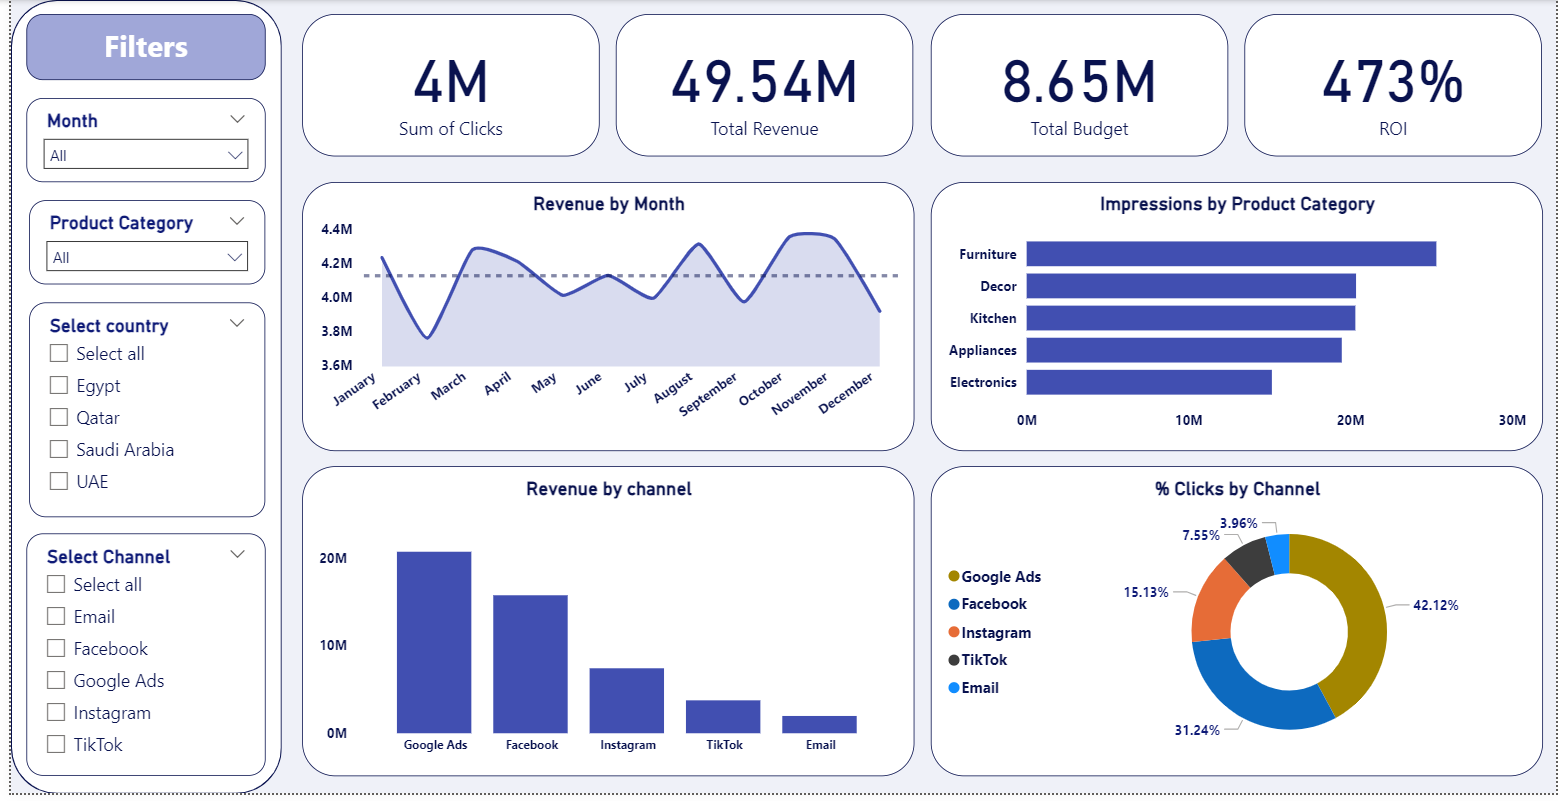

The dashboard page shown, as its layout file describes it:
{"tool":"powerbi","page":{"name":"Marketing Dashboard","canvas":[1403,720],"ordinal":0},"visuals":[{"type":"slicer","fields":{"Values":["Campaigns_Performance.product_category"]},"box":[17,181.2,214.6,76.7],"z":0,"group":"g1"},{"type":"shape","box":[0,0,245.9,720.6],"z":500},{"type":"card","fields":{"Values":["Campaigns_Performance.Total Revenue"]},"box":[549.5,12.8,270,129.3],"z":1000},{"type":"slicer","fields":{"Values":["Campaigns_Performance.date.Variation.Date Hierarchy.Month"]},"box":[14.2,88.5,217.5,76.7],"z":1000,"group":"g1"},{"type":"card","fields":{"Values":["Campaigns_Performance.Total Budget"]},"box":[834.7,12.8,270,129.3],"z":2000},{"type":"card","fields":{"Values":["Campaigns_Performance.ROI %"]},"box":[1120,12.8,270,129.3],"z":3000},{"type":"slicer","fields":{"Values":["Campaigns_Performance.channel"]},"box":[14.2,484.7,217.5,220.3],"z":3000,"group":"g1"},{"type":"columnChart","title":"Revenue by channel","fields":{"Category":["Campaigns_Performance.channel"],"Y":["Campaigns_Performance.Total Revenue"]},"box":[264.4,423.5,555.7,281.4],"z":4000},{"type":"lineChart","title":"Revenue by Month","fields":{"Category":["Campaigns_Performance.date.Variation.Date Hierarchy.Month"],"Y":["Campaigns_Performance.Total Revenue"]},"box":[264.4,164.9,555.7,244.5],"z":5000},{"type":"donutChart","title":"% Clicks by Channel","fields":{"Y":["Sum(Campaigns_Performance.clicks)"],"Category":["Campaigns_Performance.channel"]},"box":[834.3,423.5,555.7,281.4],"z":6000},{"type":"clusteredBarChart","title":"Impressions by Product Category","fields":{"Category":["Campaigns_Performance.product_category"],"Y":["Sum(Campaigns_Performance.impressions)"]},"box":[834.3,164.9,555.7,244.5],"z":8000},{"type":"slicer","fields":{"Values":["Campaigns_Performance.country"]},"box":[17,274,214.6,194.7],"z":8000,"group":"g1"},{"type":"textbox","box":[14.2,12.8,217.5,59.7],"z":9000,"group":"g1"},{"type":"card","fields":{"Values":["Sum(Campaigns_Performance.clicks)"]},"box":[264.4,12.8,270,129.3],"z":9000},{"type":"group","id":"g1","title":"Group 1","box":[14.2,12.8,217.5,692.2],"z":10000}]}

Visuals, with their boxes in screenshot pixels (x1, y1, x2, y2), scaled from the page's 1403x720 canvas onto the 1558x801 screenshot:
slicer - Campaigns_Performance.product_category: detection(19, 202, 257, 287)
shape: detection(0, 0, 273, 800)
card - Campaigns_Performance.Total Revenue: detection(610, 14, 910, 158)
slicer - Campaigns_Performance.date.Variation.Date Hierarchy.Month: detection(16, 98, 257, 184)
card - Campaigns_Performance.Total Budget: detection(927, 14, 1227, 158)
card - Campaigns_Performance.ROI %: detection(1244, 14, 1544, 158)
slicer - Campaigns_Performance.channel: detection(16, 539, 257, 784)
"Revenue by channel" columnChart: detection(294, 471, 911, 784)
"Revenue by Month" lineChart: detection(294, 183, 911, 455)
"% Clicks by Channel" donutChart: detection(926, 471, 1544, 784)
"Impressions by Product Category" clusteredBarChart: detection(926, 183, 1544, 455)
slicer - Campaigns_Performance.country: detection(19, 305, 257, 521)
textbox: detection(16, 14, 257, 81)
card - Sum(Campaigns_Performance.clicks): detection(294, 14, 593, 158)
"Group 1" group: detection(16, 14, 257, 784)
